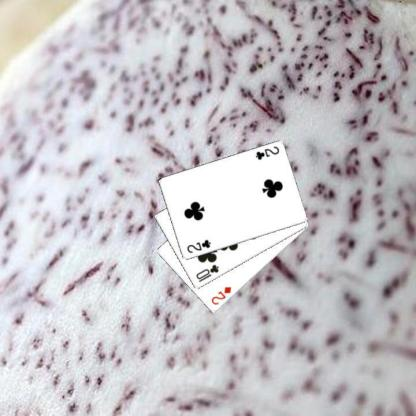10C: (193, 262, 220, 284)
2C: (184, 237, 212, 254), (253, 144, 280, 161)
2D: (209, 284, 232, 306)
